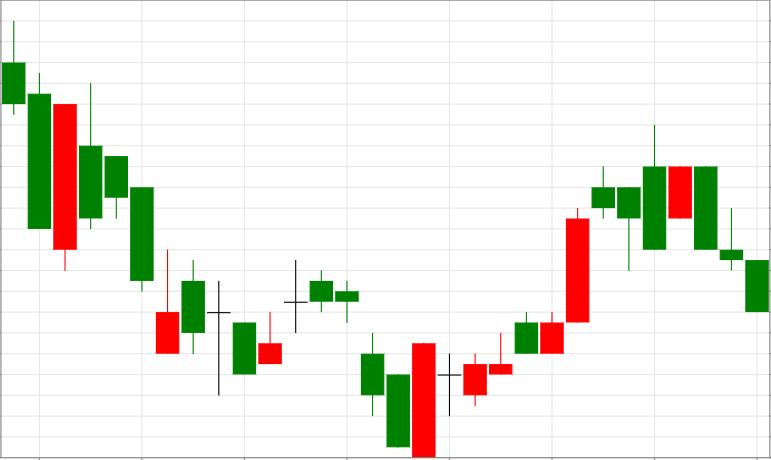bullish_engulfing_rise: (310, 271, 435, 457)
hanging_man_fall: (464, 166, 640, 406)
inverse_hammer_rise: (80, 83, 179, 354)
